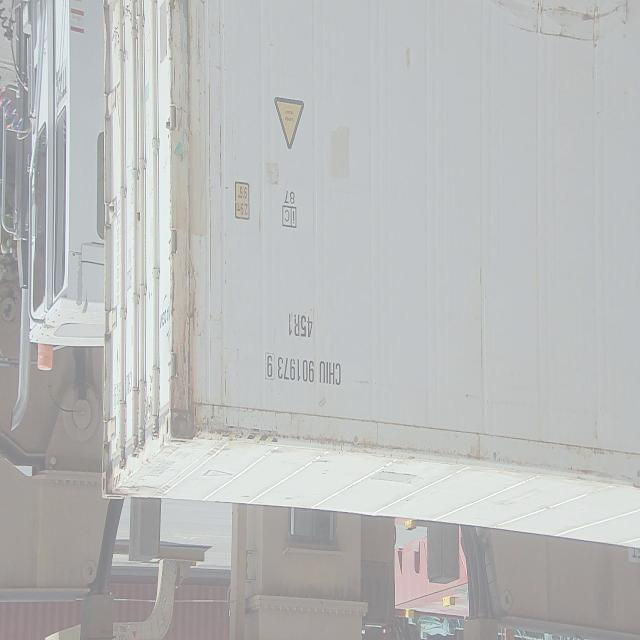rust: (149, 5, 229, 467)
